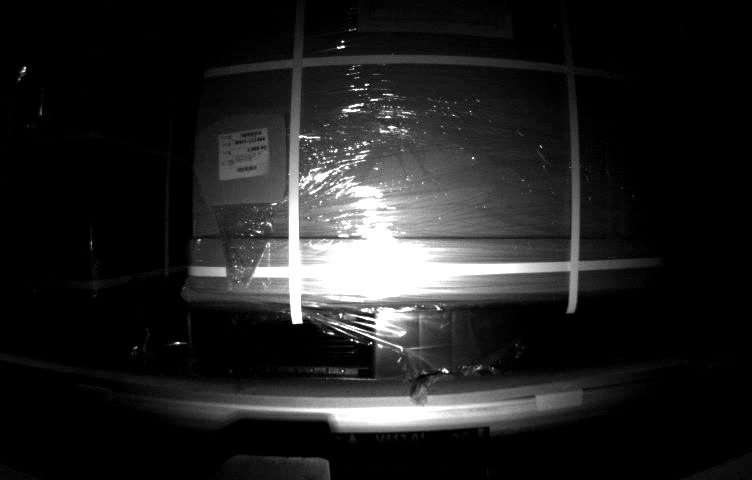True Barcode: (214, 131, 273, 178)
